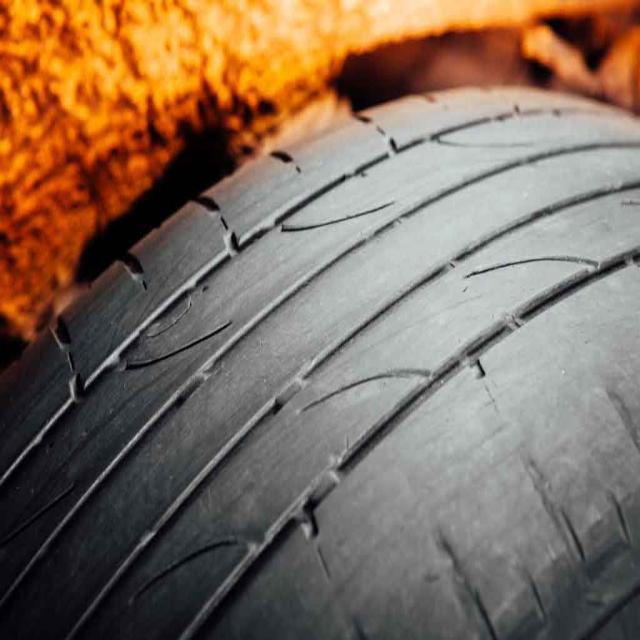Flat spots: (376, 113, 639, 639), (155, 245, 374, 640), (0, 364, 156, 640)
